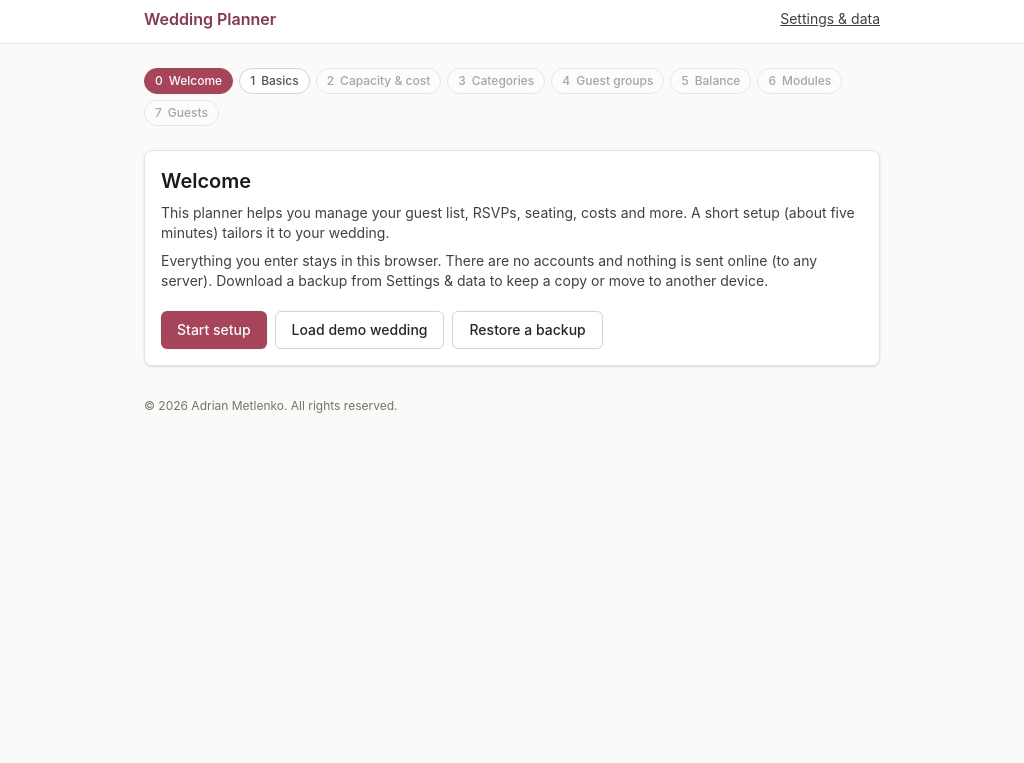
Scenario: SetupPage › walks from welcome through basics with validation gating
Click the button "Start setup" at x=214, y=330, box left=161, top=311, right=267, bottom=349
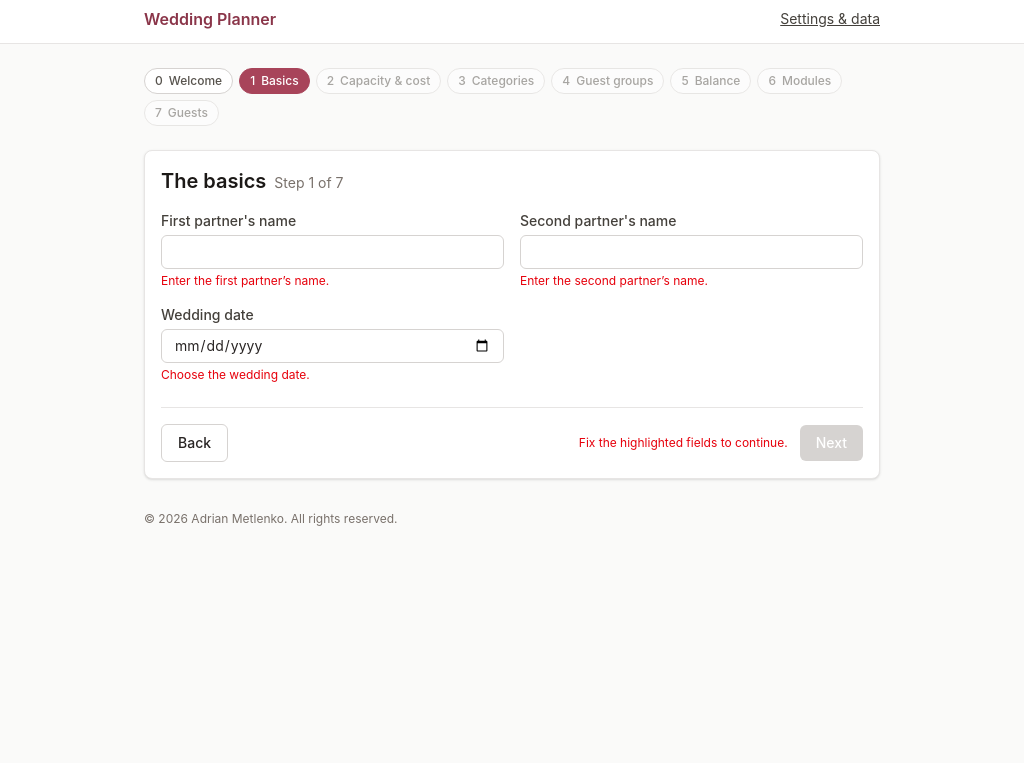
expect the button "Next" is disabled: met, box left=800, top=425, right=863, bottom=461
Type "Sam" into the field labelled "First partner's name Enter the first partner’s name." at x=332, y=252, box left=161, top=235, right=504, bottom=269
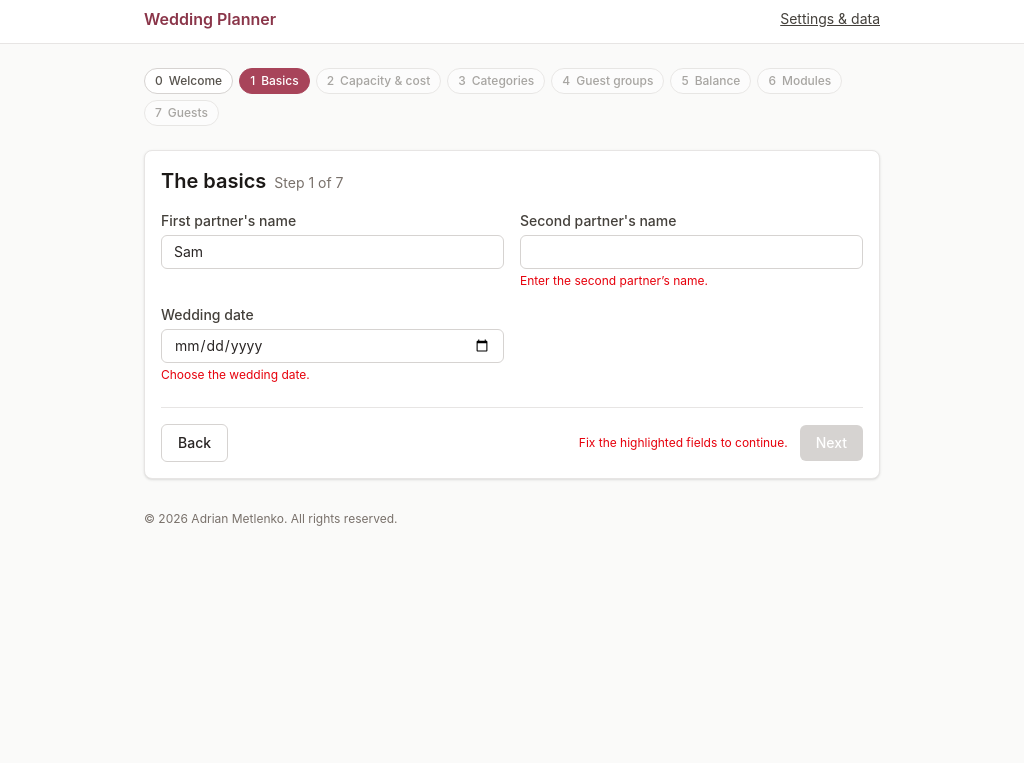
Type "Alex" into the field labelled "Second partner's name Enter the second partner’s name." at x=692, y=252, box left=520, top=235, right=863, bottom=269
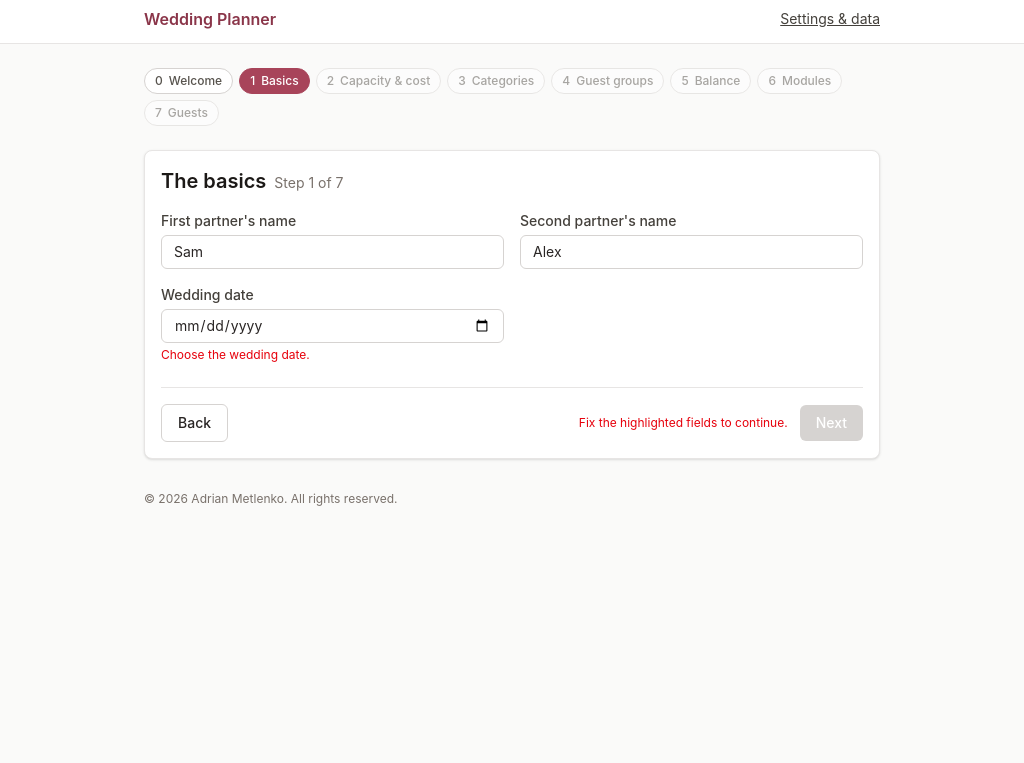
Type "2027-06-12" into the date field labelled "Wedding date Choose the wedding date." at x=332, y=326, box left=161, top=309, right=504, bottom=343
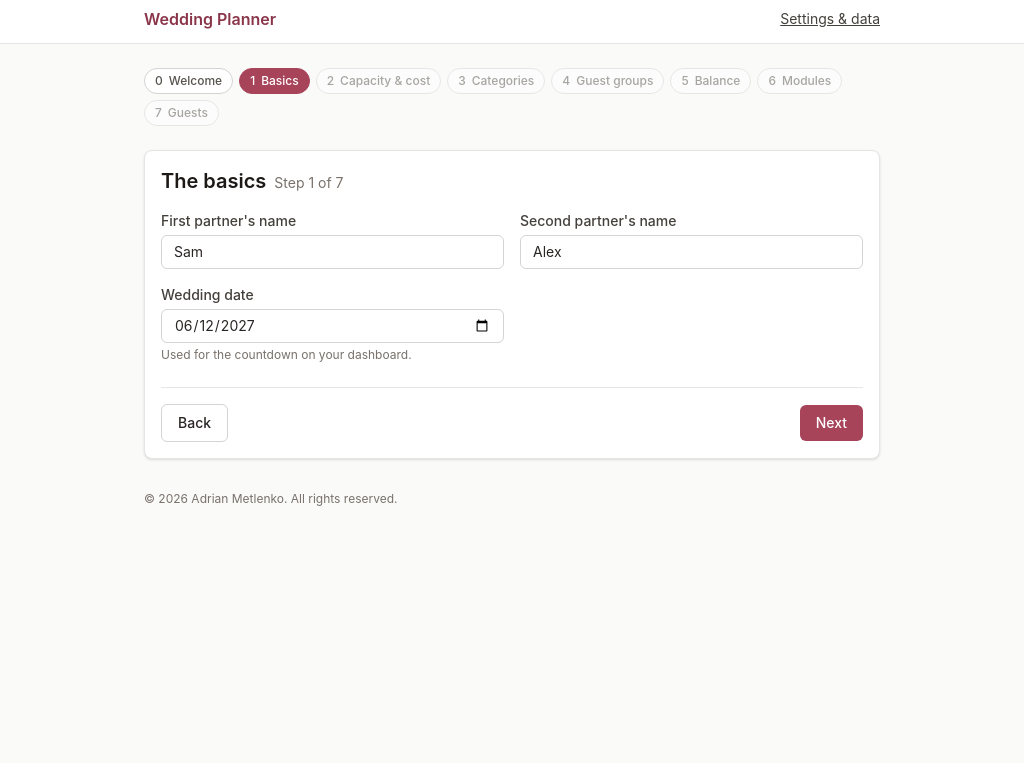
expect the button "Next" is enabled: met
Click the button "Next" at x=831, y=423, box left=800, top=405, right=863, bottom=441
(page scrolled)
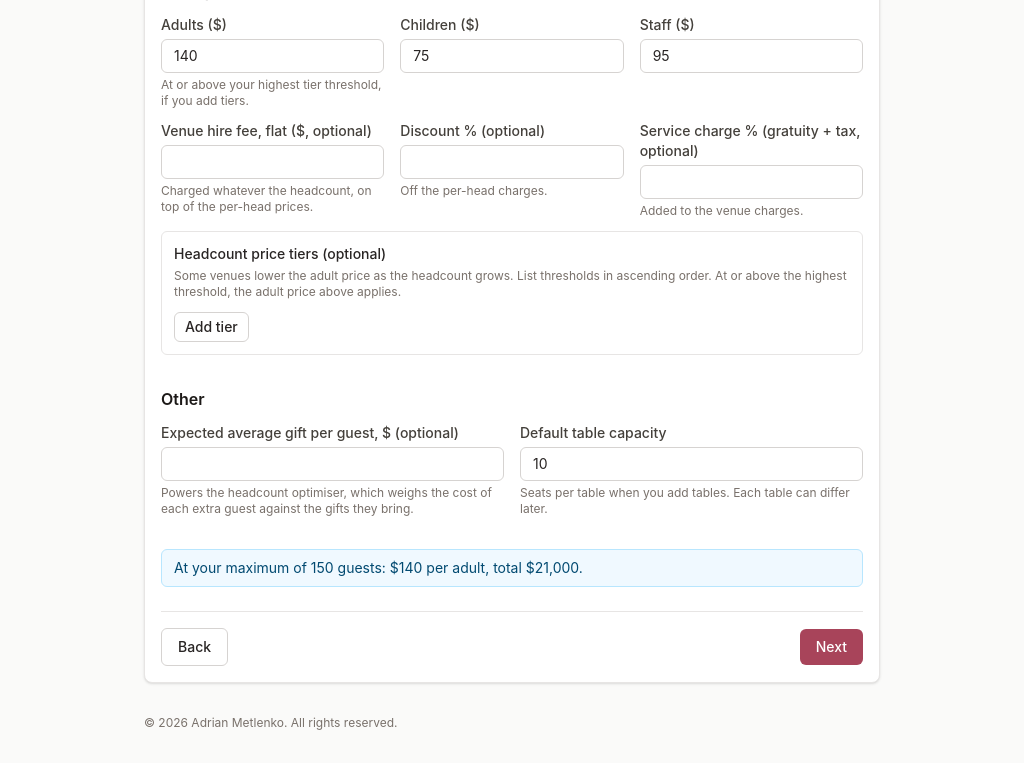
expect the text "At your maximum of 150 guests" is shown: met, box left=161, top=549, right=863, bottom=587
